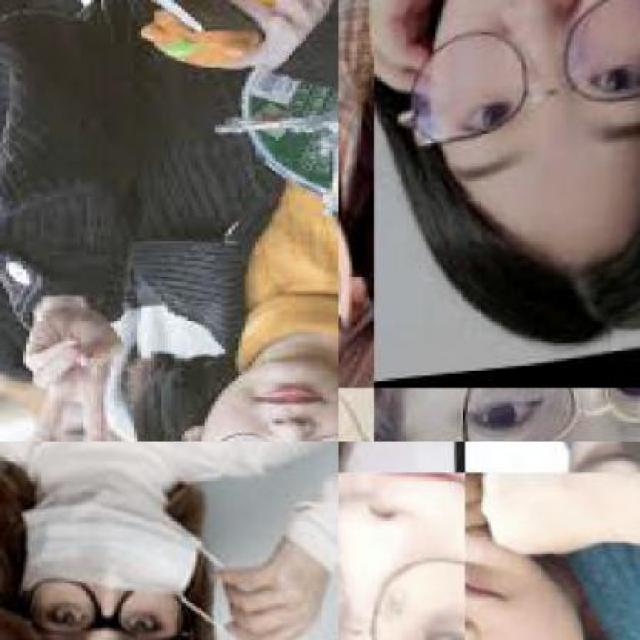glasses: (386, 0, 639, 162), (374, 389, 638, 440), (9, 571, 197, 638), (185, 417, 337, 440)
